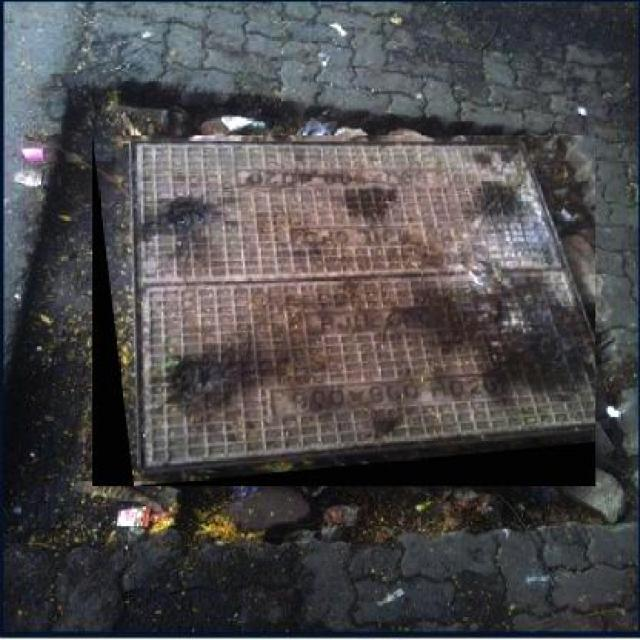Manhole: (92, 136, 596, 487)
